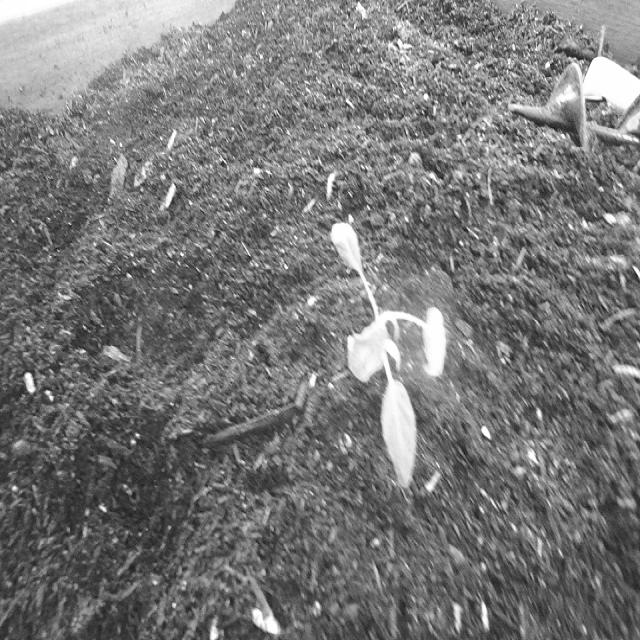Healthy: (321, 211, 471, 510)
